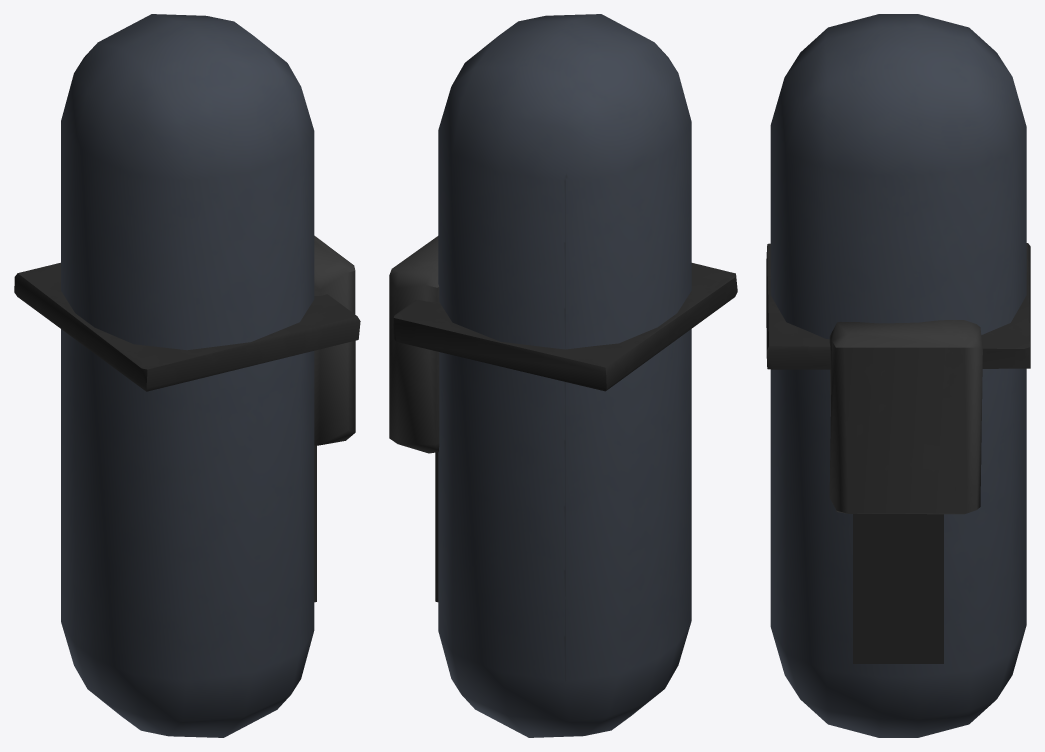
The model's file is SM_OperatorBThigh_LOD1.fbx.
3 renders of one model, left to right at view 1: azimuth 30°, elevation 25°; view 2: azimuth 150°, elevation 25°; view 3: azimuth 270°, elevation 25°, orthographic.
Parts seen in each view (by area): view 1: SM_OperatorBThigh_LOD1; view 2: SM_OperatorBThigh_LOD1; view 3: SM_OperatorBThigh_LOD1.
Boxes of the visible parts, <box> form: SM_OperatorBThigh_LOD1: <box>14,14,360,737</box>; SM_OperatorBThigh_LOD1: <box>389,14,737,737</box>; SM_OperatorBThigh_LOD1: <box>766,14,1030,737</box>.
Bounding box in the file's own units: 0.1877 × 0.5019 × 0.1724.
1 material, 1 textured.
